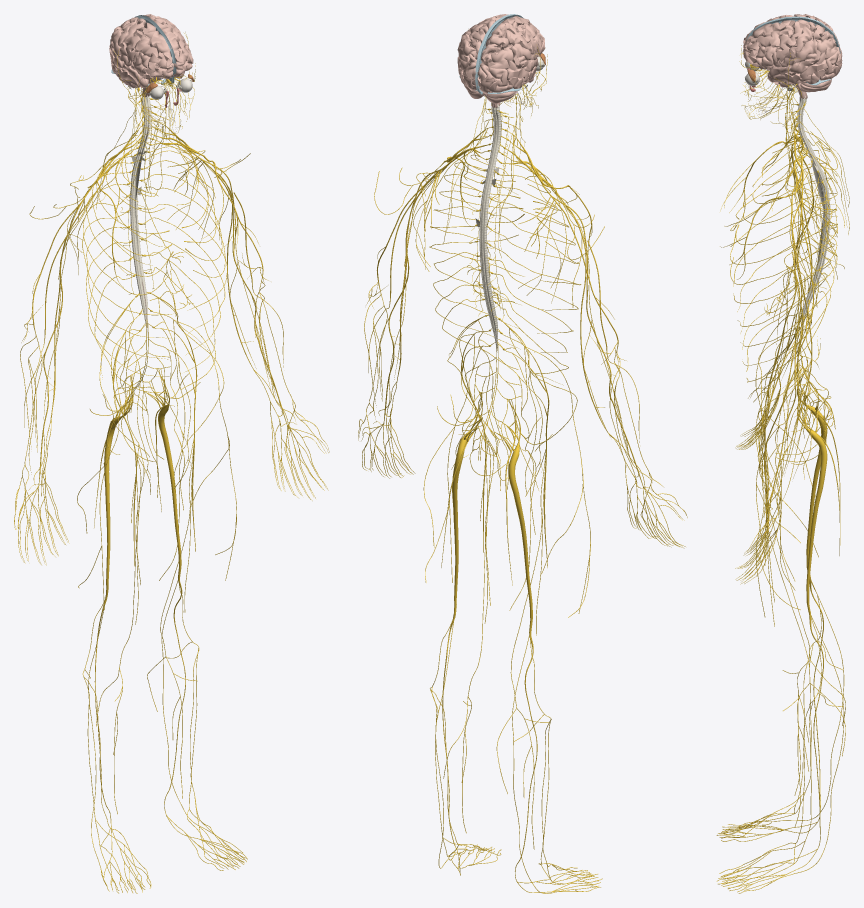
The model's file is nervous_system.glb.
The picture shows the model from 3 angles, left to right: view 1: azimuth 30°, elevation 25°; view 2: azimuth 150°, elevation 25°; view 3: azimuth 270°, elevation 25°; orthographic projection. The views are drawn at different scales.
Visible parts, largest first — view 1: Intercostal nerves (right), Spinal dura, Intercostal nerves (left), Sciatic nerve (right), Sciatic nerve (left); view 2: Spinal dura, Intercostal nerves (left), Intercostal nerves (right), Sciatic nerve (right), Sciatic nerve (left), Saphenous nerve (right); view 3: Spinal dura, Intercostal nerves (left), Intercostal nerves (right), Sciatic nerve (left), Sciatic nerve (right), Middle frontal gyrus (left), Saphenous nerve (left), Lateral femoral cutaneous nerve (left), Median nerve (left), Saphenous nerve (right), Middle temporal gyrus (left), Precentral gyrus (left) (+18 smaller).
Boxes of the visible parts, x1,y1,x2,y2 form: Intercostal nerves (right): [82, 148, 173, 393]; Spinal dura: [130, 95, 151, 335]; Intercostal nerves (left): [141, 143, 227, 389]; Sciatic nerve (right): [104, 376, 132, 595]; Sciatic nerve (left): [146, 369, 181, 578]; Spinal dura: [475, 103, 501, 352]; Intercostal nerves (left): [429, 154, 524, 369]; Intercostal nerves (right): [491, 163, 581, 373]; Sciatic nerve (right): [495, 399, 532, 632]; Sciatic nerve (left): [452, 393, 481, 613]; Saphenous nerve (right): [496, 452, 545, 849]; Spinal dura: [797, 96, 830, 330]; Intercostal nerves (left): [730, 153, 837, 382]; Intercostal nerves (right): [730, 140, 837, 371]; Sciatic nerve (left): [797, 384, 827, 612]; Sciatic nerve (right): [797, 370, 827, 577]; Middle frontal gyrus (left): [745, 29, 793, 62]; Saphenous nerve (left): [761, 454, 845, 827]; Lateral femoral cutaneous nerve (left): [755, 340, 818, 617]; Median nerve (left): [769, 198, 802, 508]; Saphenous nerve (right): [761, 425, 845, 795]; Middle temporal gyrus (left): [773, 59, 828, 83]; Precentral gyrus (left): [776, 21, 804, 61].
Size of the model in its own units: 0.6675 by 1.69 by 0.2426.
